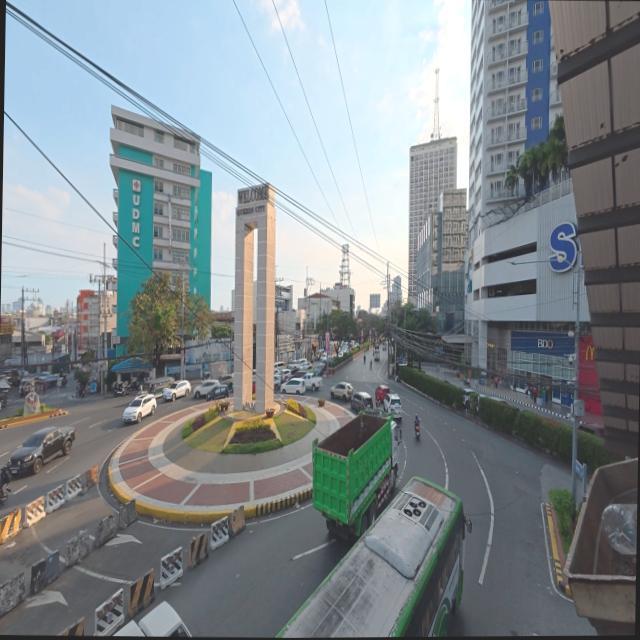car: (122, 394, 157, 426), (193, 379, 226, 399), (278, 374, 307, 392), (331, 381, 354, 401)
trucks: (6, 414, 78, 480)
